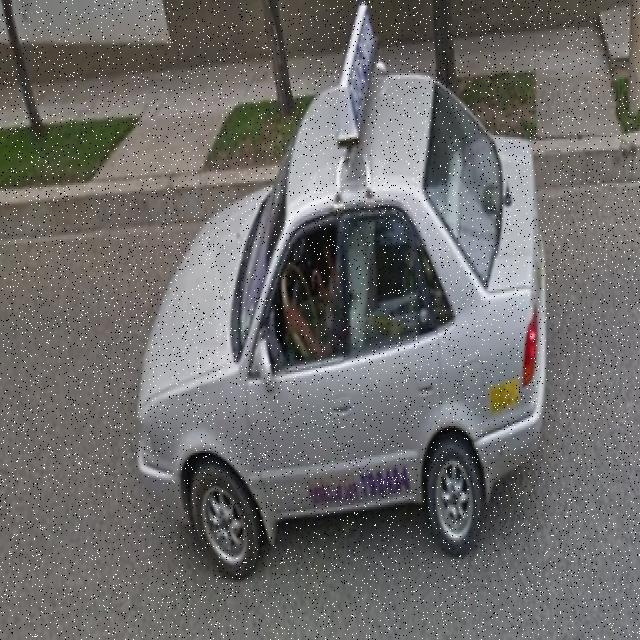cars: (137, 68, 549, 559)
